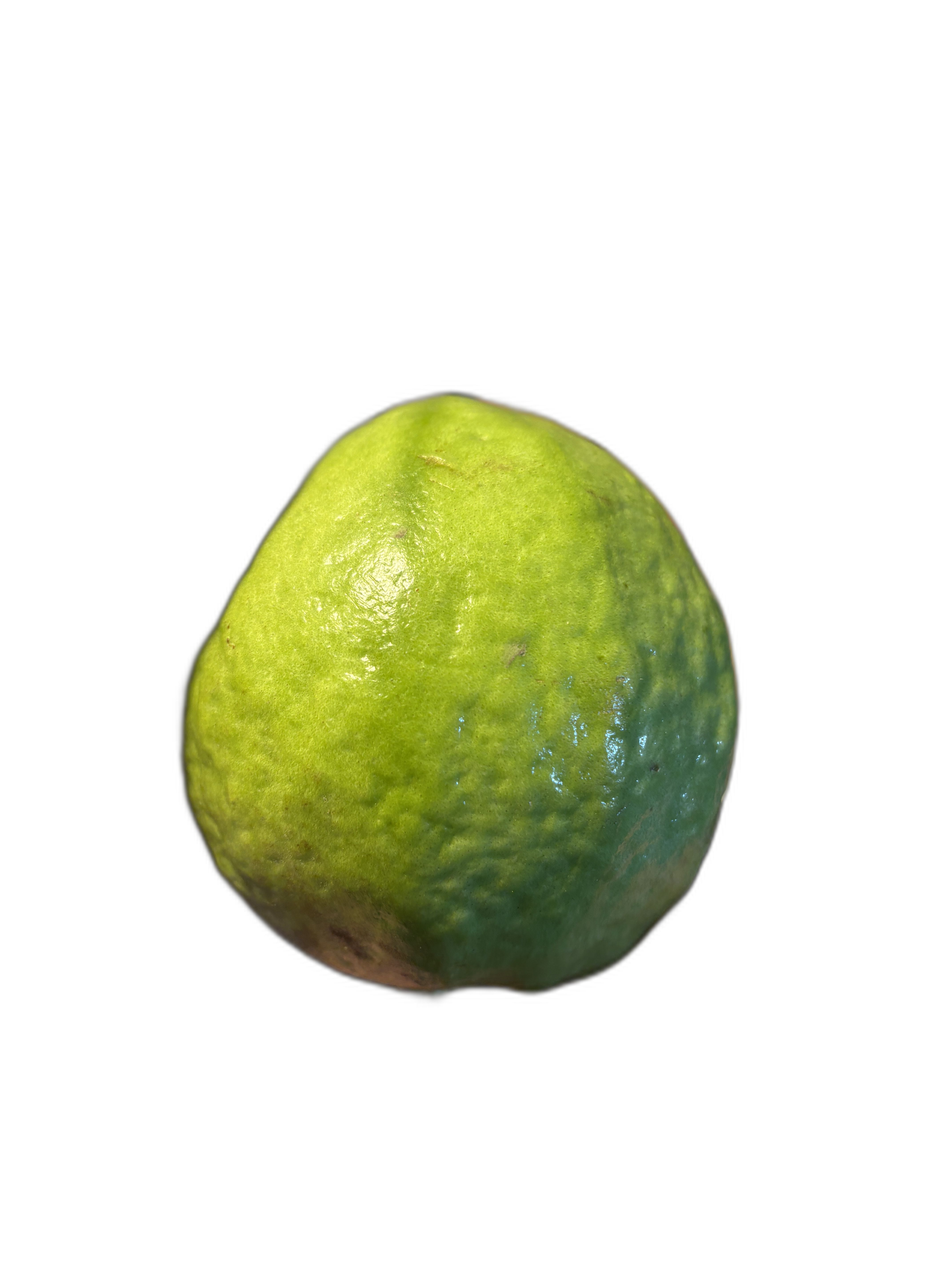guava: (37, 135, 742, 1188)
